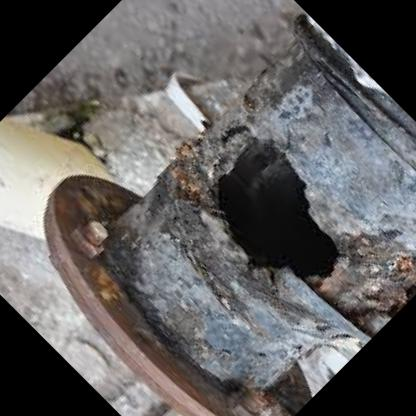burst: (206, 134, 351, 287)
